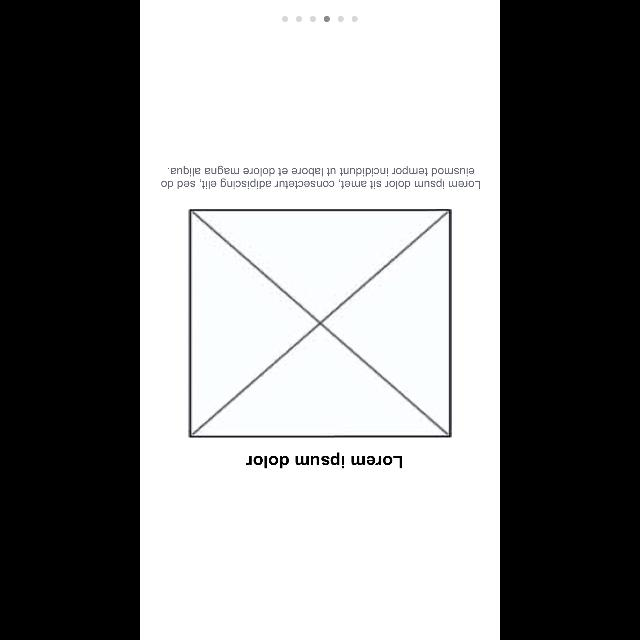image: (188, 207, 452, 438)
pageindicator: (282, 16, 358, 22)
text: (160, 166, 480, 190), (245, 452, 402, 468)
